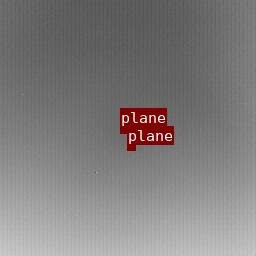plane: (120, 127, 133, 133), (127, 145, 135, 150)
